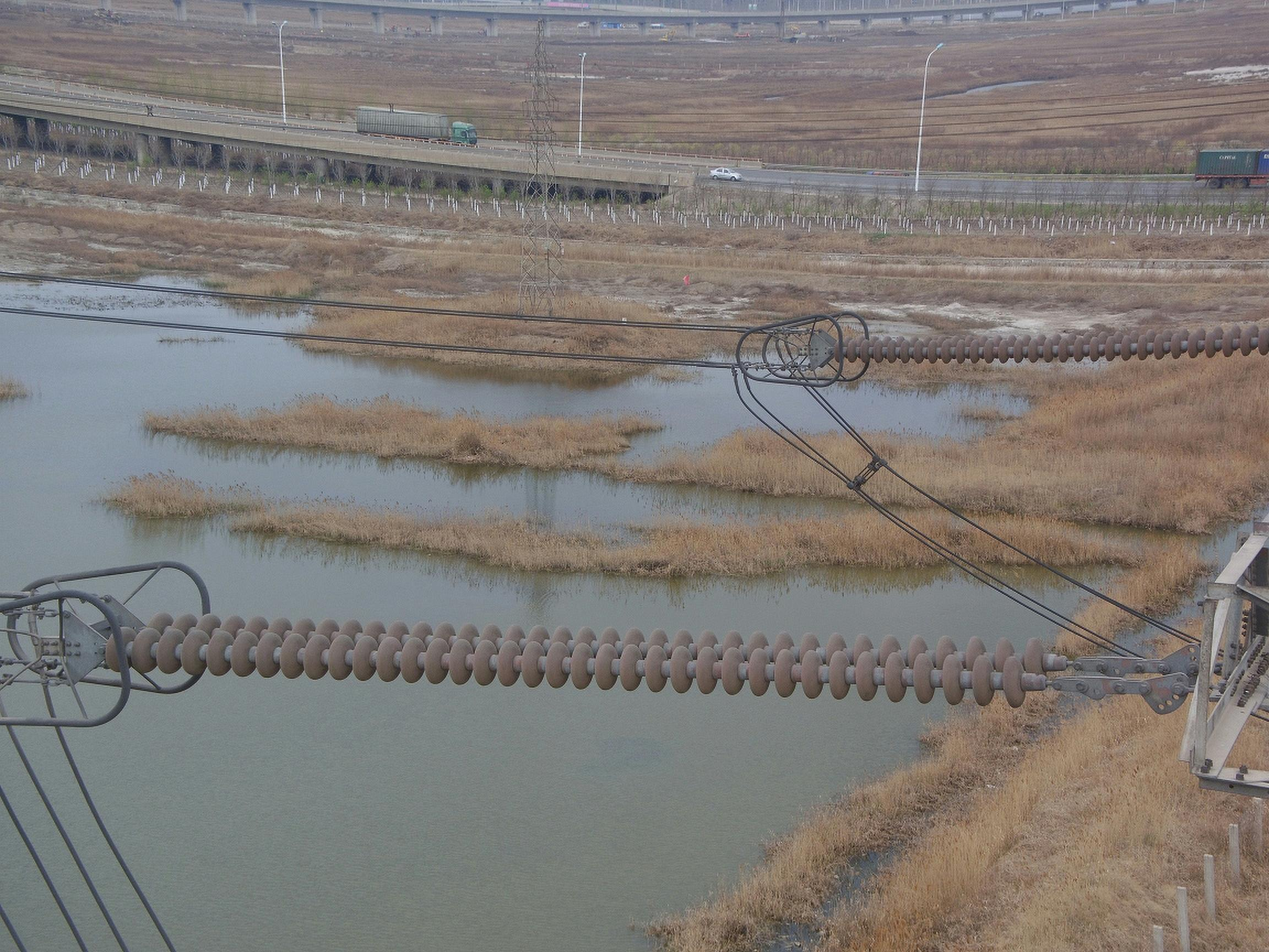insulator: (100, 607, 1058, 713), (830, 321, 1269, 366)
